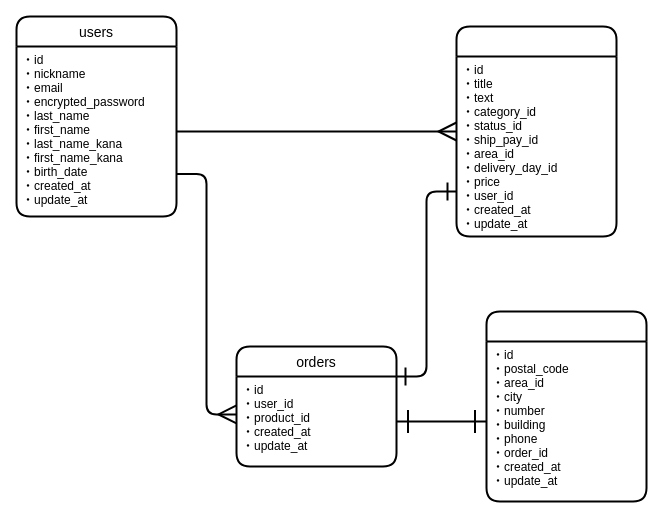
Image size: 663x518. Some labels were removed from this diagram. Here are the shapes that lost their labels. From the top down, the box of each, then its label:
(455, 25, 617, 237): products
(485, 310, 647, 502): delivers
